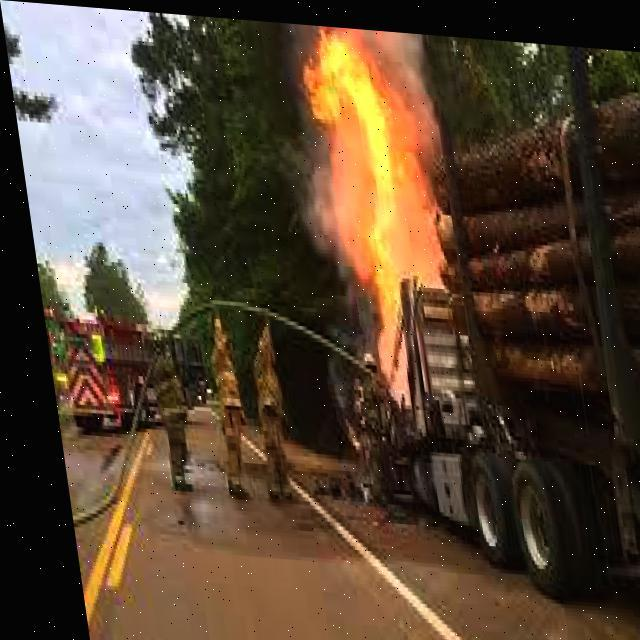Fire: (282, 29, 484, 420)
